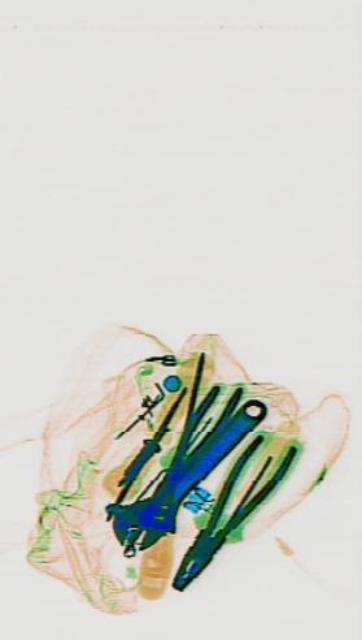Pliers: (159, 403, 297, 611)
Wrench: (107, 370, 272, 576)
